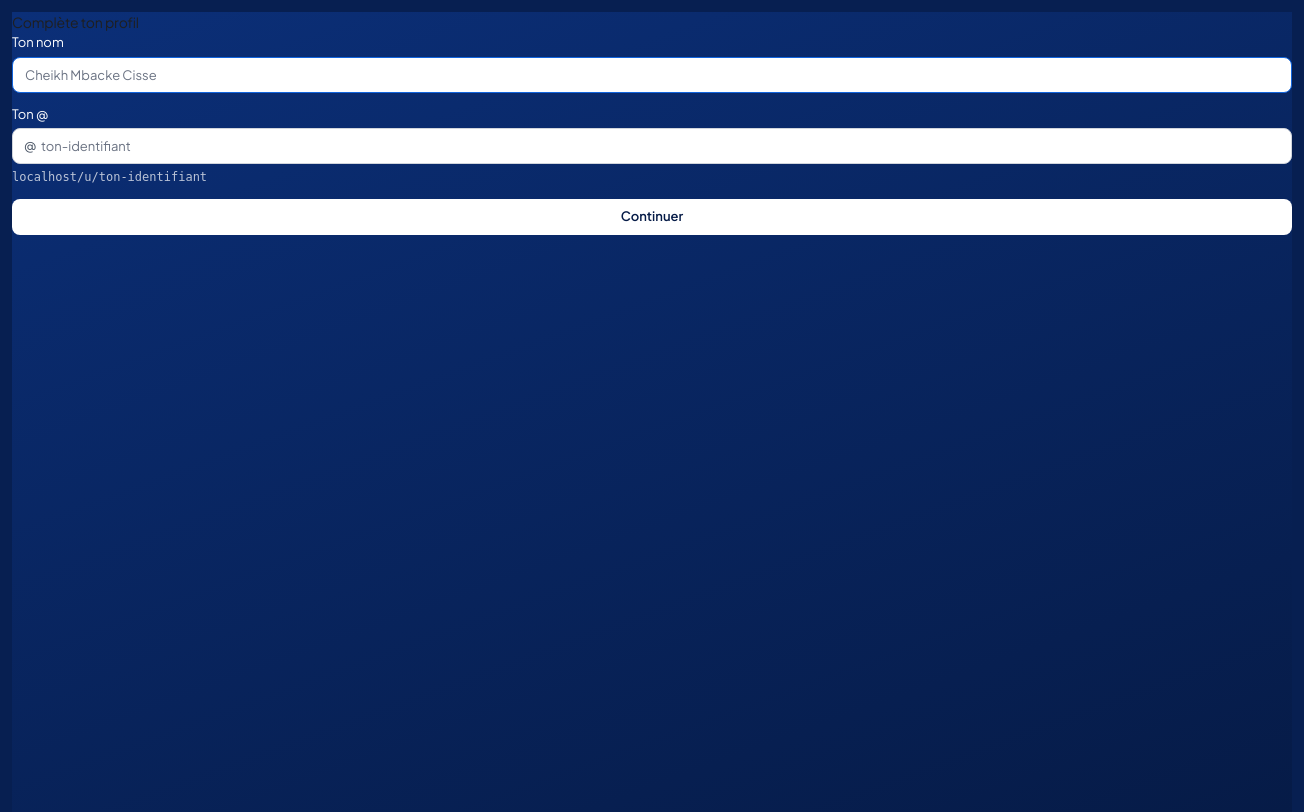
Test: CompleteProfilePage › refuse un @ réservé sans le demander au serveur
Step 1. Type "kocc" into the field labelled "Ton @" → [652, 146], box [12,128,1292,164]
Wait 400 ms
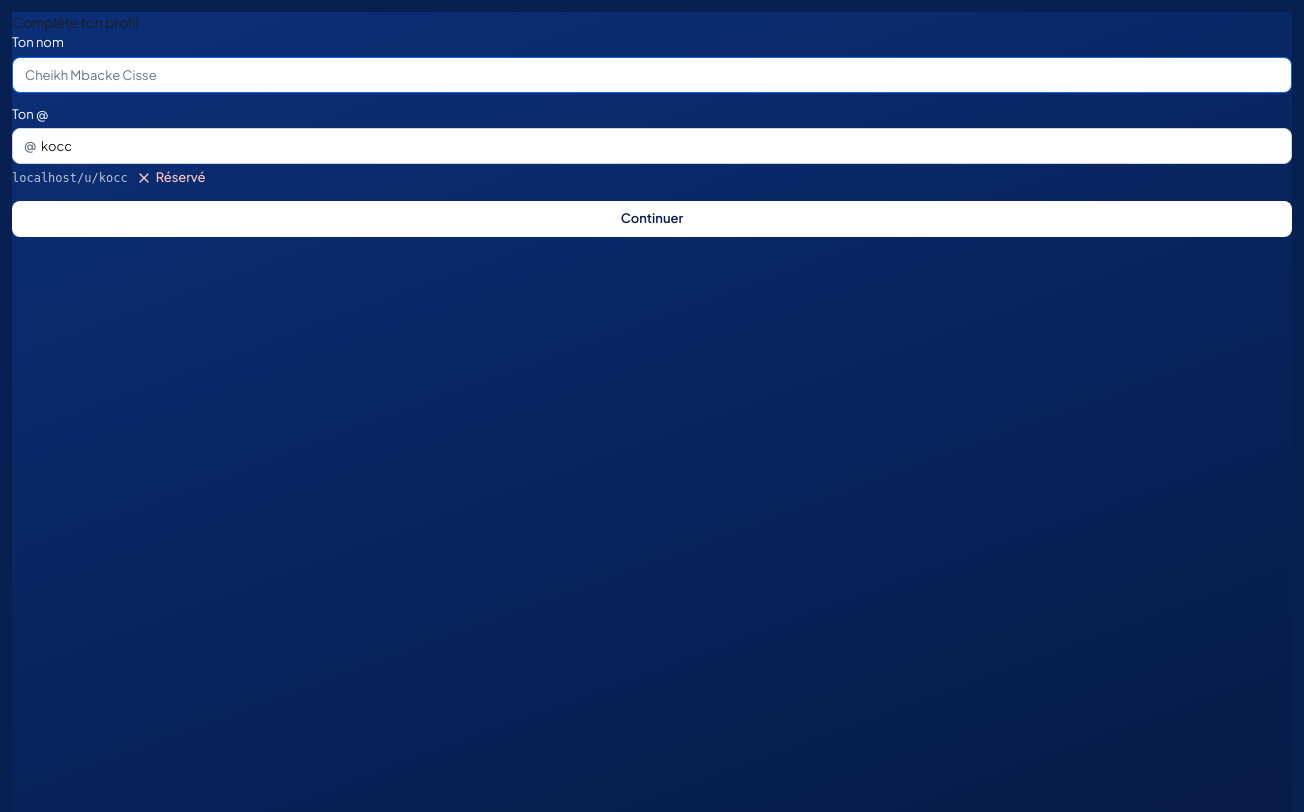
expect the text "Réservé" is shown: met, box [136,168,206,188]
